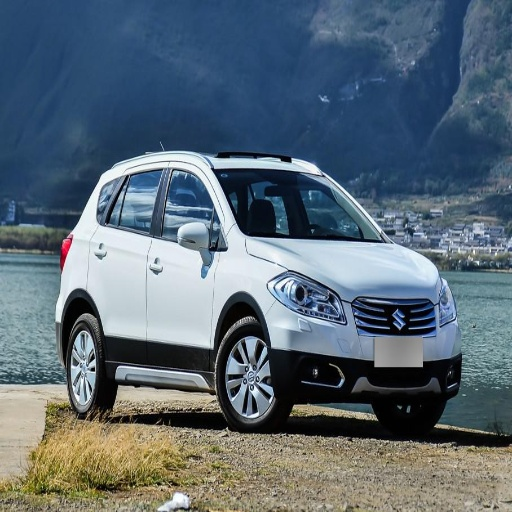back_right_door: (89, 163, 166, 364)
front_bumper: (268, 295, 458, 405)
front_right_door: (147, 164, 221, 371)
front_right_light: (270, 272, 346, 322)
